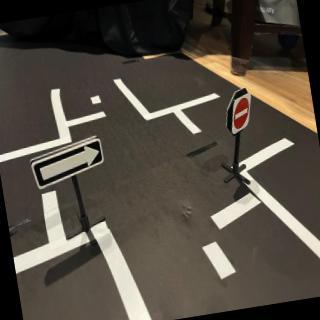sign_noentry: (226, 94, 258, 138)
sign_oneway_right: (30, 136, 109, 193)
